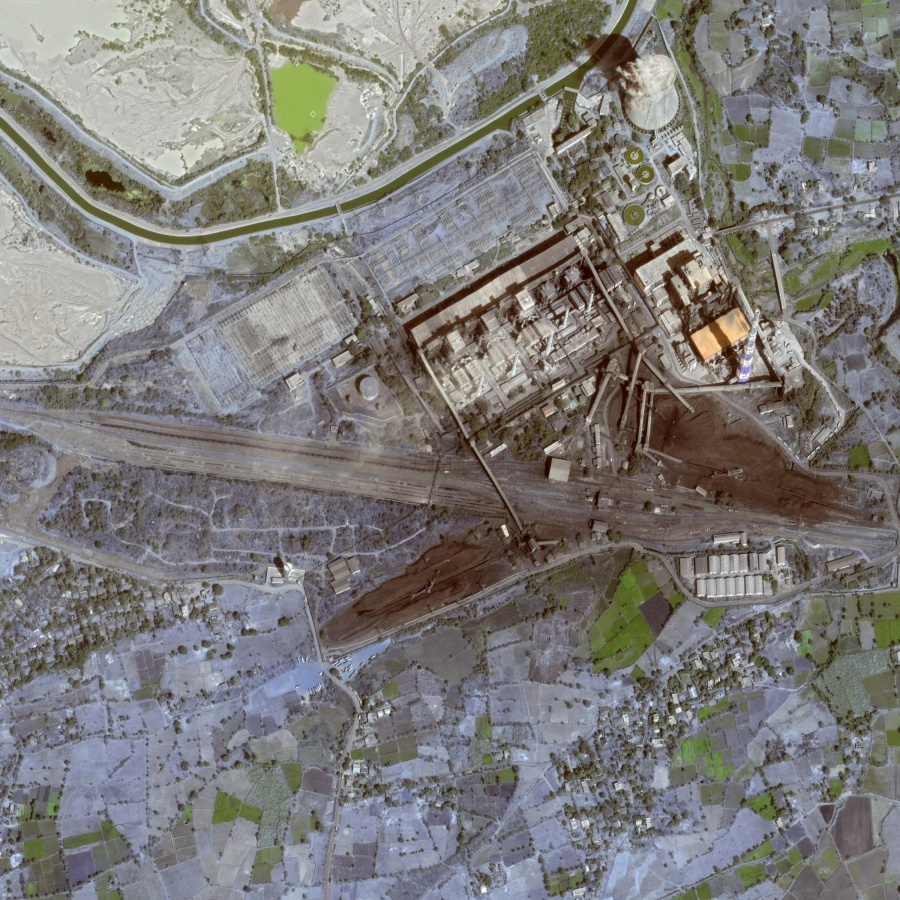PowerPlant: (318, 55, 872, 644)
